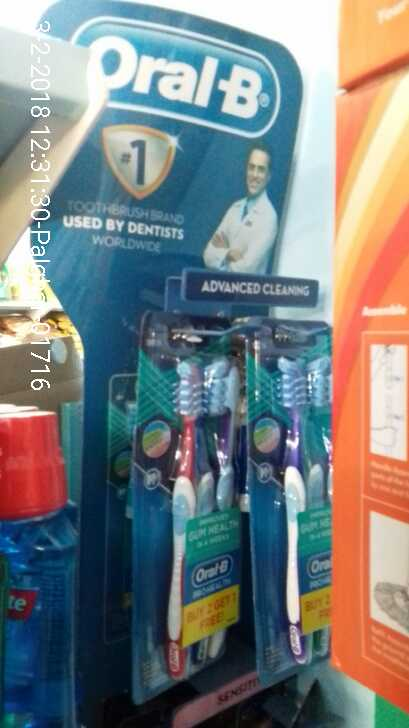oralb: (148, 354, 245, 667), (254, 352, 344, 664)
